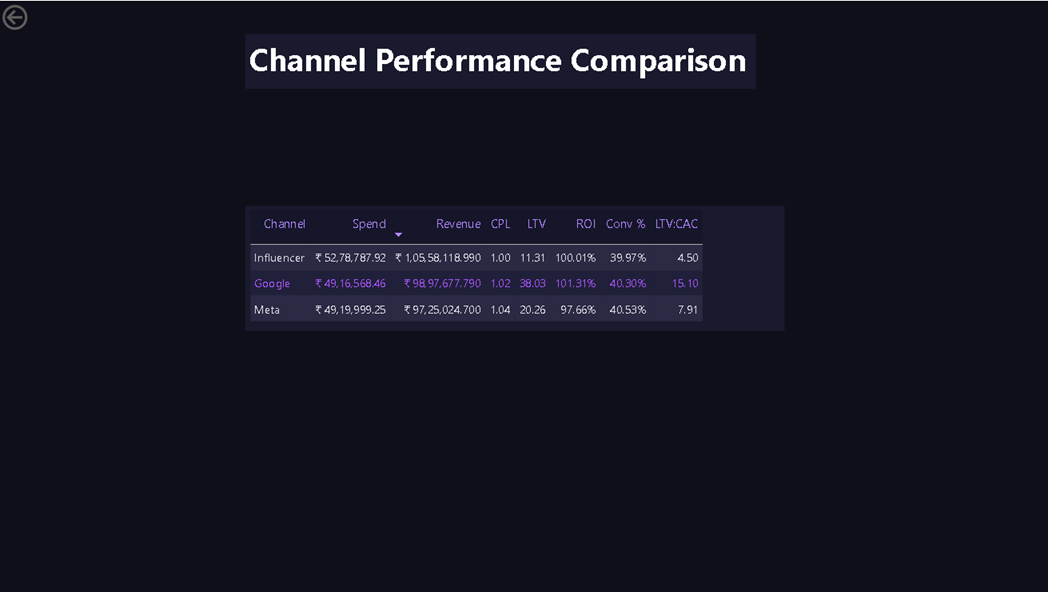

Layout of this report page (visuals, bound fields, positions):
{"tool":"powerbi","page":{"name":"Channel Comparison","canvas":[1280,720],"ordinal":1},"visuals":[{"type":"tableEx","fields":{"Values":["Metrics.Channel","Metrics.Total_Spend","Metrics.Total_Revenue","Metrics.CPL","Metrics.LTV","Metrics.ROI","Metrics.Conv_Rate","Metrics.LTV_to_CAC"]},"box":[298,247.3,651.5,150.8],"z":0},{"type":"actionButton","box":[0,0,100,40],"z":1000},{"type":"textbox","box":[298,39.8,616.5,66.4],"z":2000}]}

Visuals, with their boxes in screenshot pixels (x1, y1, x2, y2), scaled from the page's 1280x720 canvas onto the 1048x592 screenshot:
tableEx - Metrics.Channel x Metrics.Total_Spend: pyautogui.locateOnScreen(244, 203, 777, 327)
actionButton: pyautogui.locateOnScreen(0, 0, 82, 33)
textbox: pyautogui.locateOnScreen(244, 33, 749, 87)
